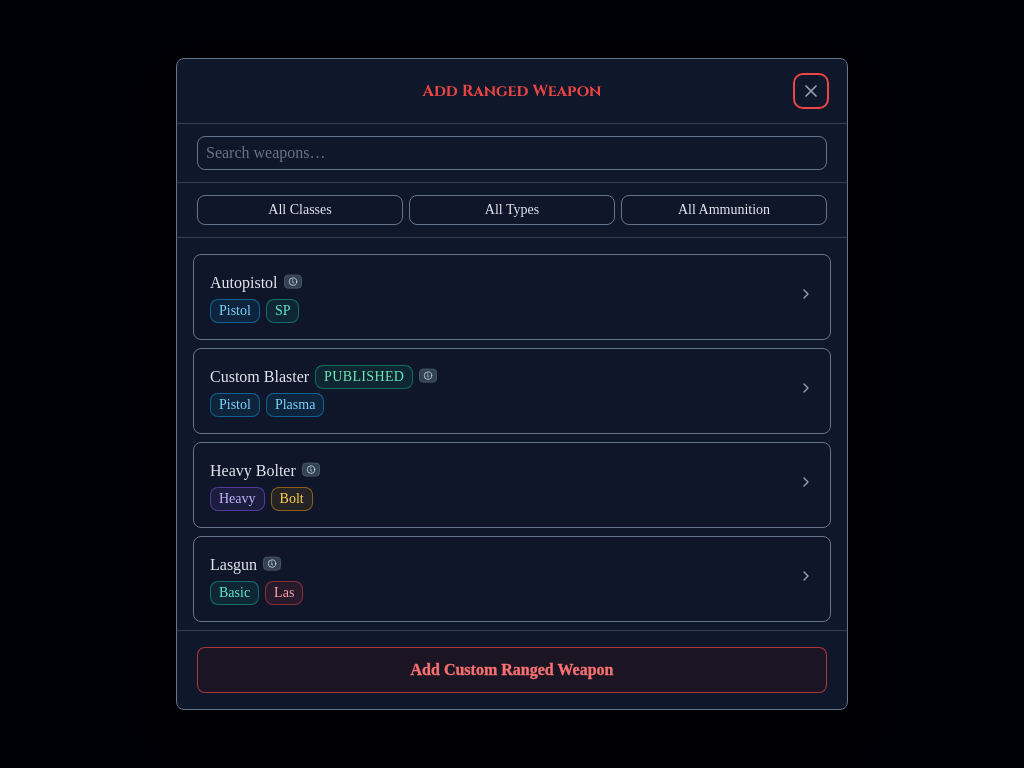
RangedPicker › shows a custom weapon's class and type chips closed and its stats once opened
The image size is (1024, 768).
Check: the text "Pistol" is shown, box left=210, top=393, right=260, bottom=417
Check: the text "Plasma" is shown, box left=266, top=393, right=324, bottom=417
Click the button named "Expand Custom Blaster details" at (806, 388), box left=794, top=376, right=818, bottom=400
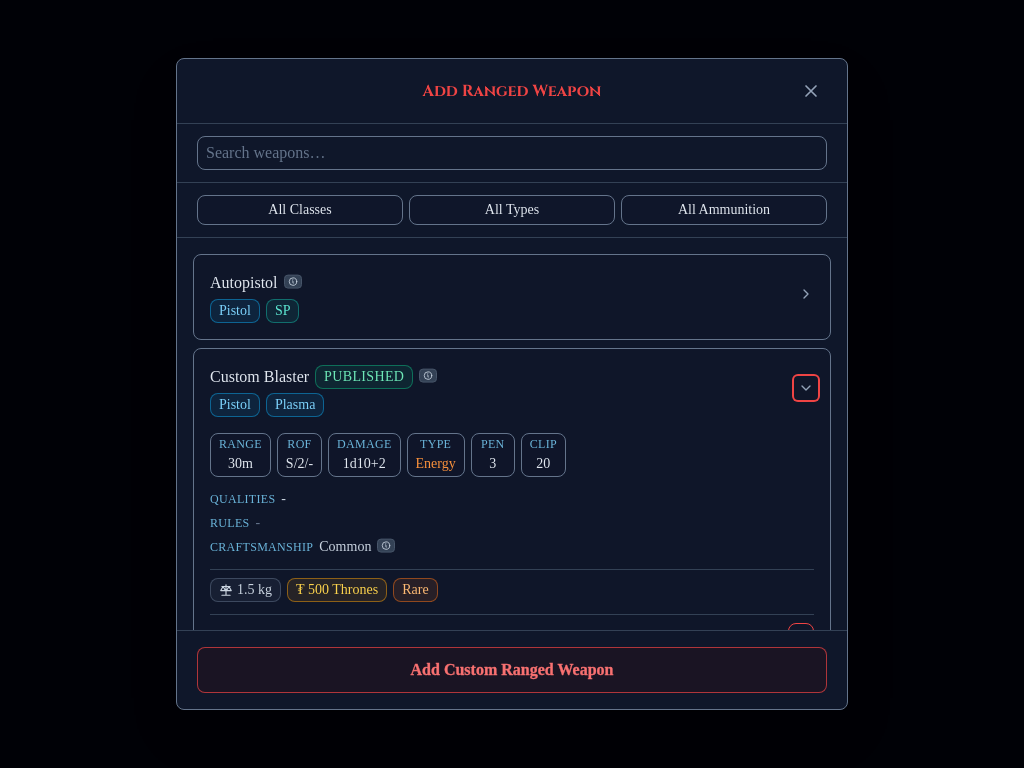
Check: the text "30m" is shown, box left=228, top=454, right=253, bottom=474
